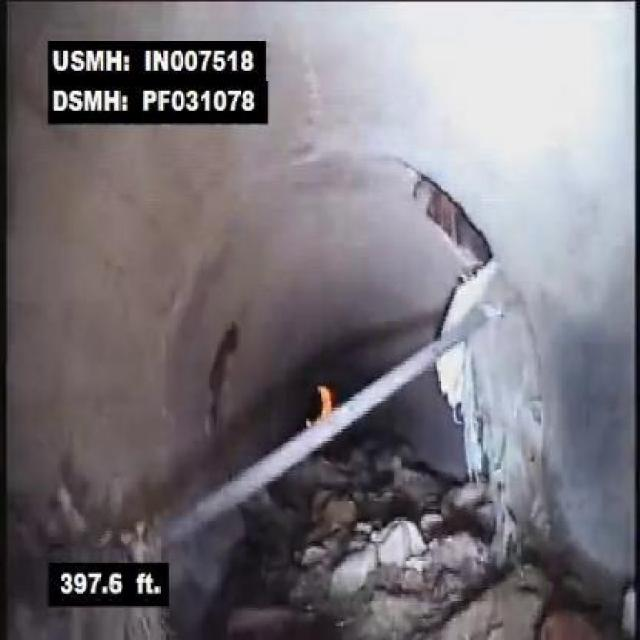Debris: (288, 474, 486, 628)
Utility intrusion: (159, 284, 506, 524)
